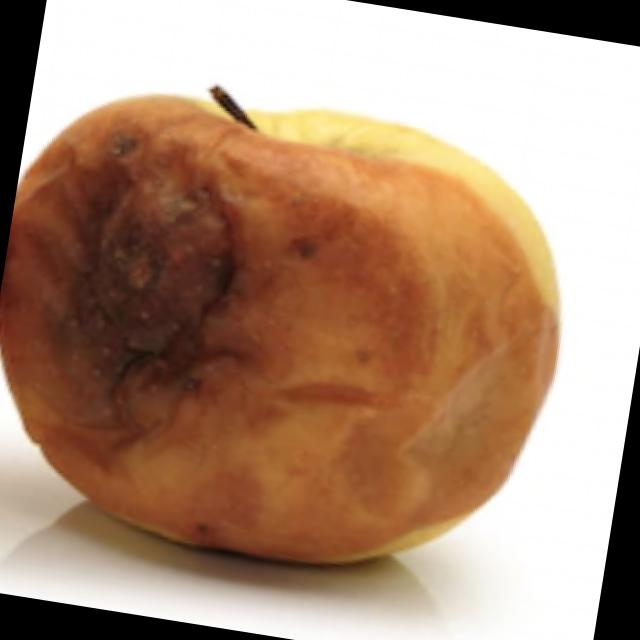rotten_apple: (0, 61, 593, 601)
